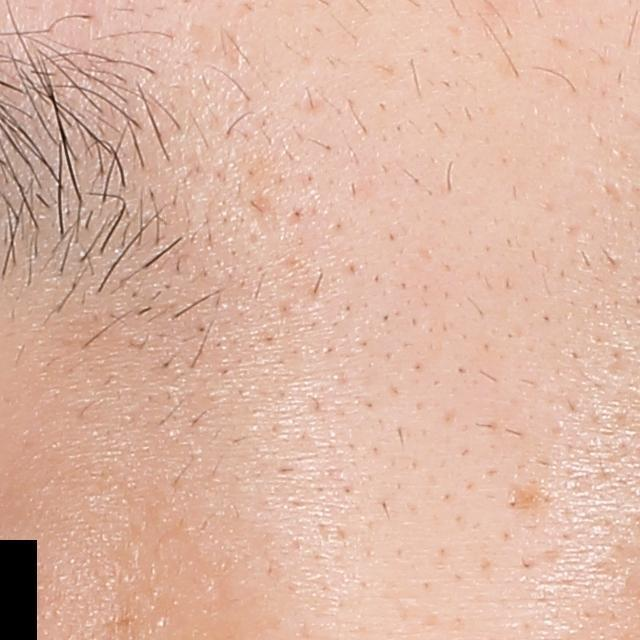atrophic_scar: (253, 193, 282, 245)
